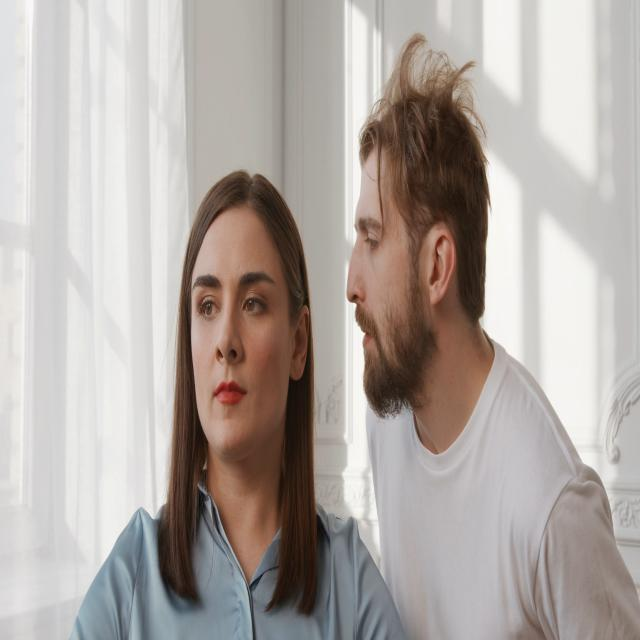Convinsing: (344, 80, 506, 438)
angry: (178, 200, 314, 476)
